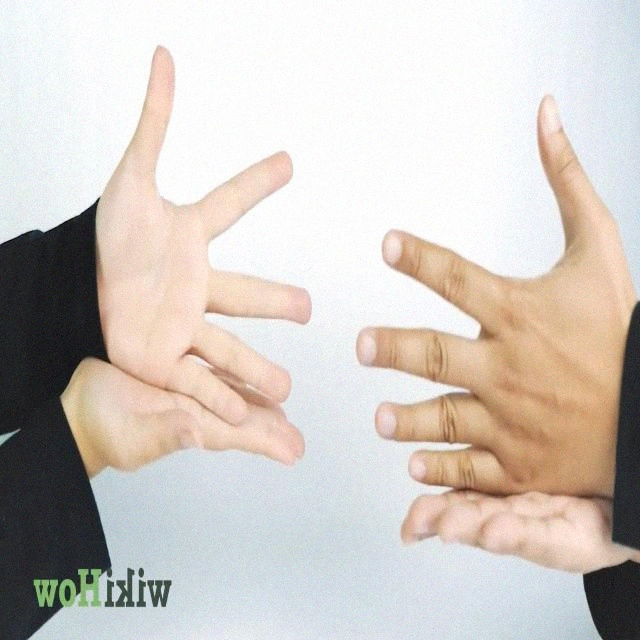Paper: (356, 92, 636, 499), (97, 44, 314, 423)
